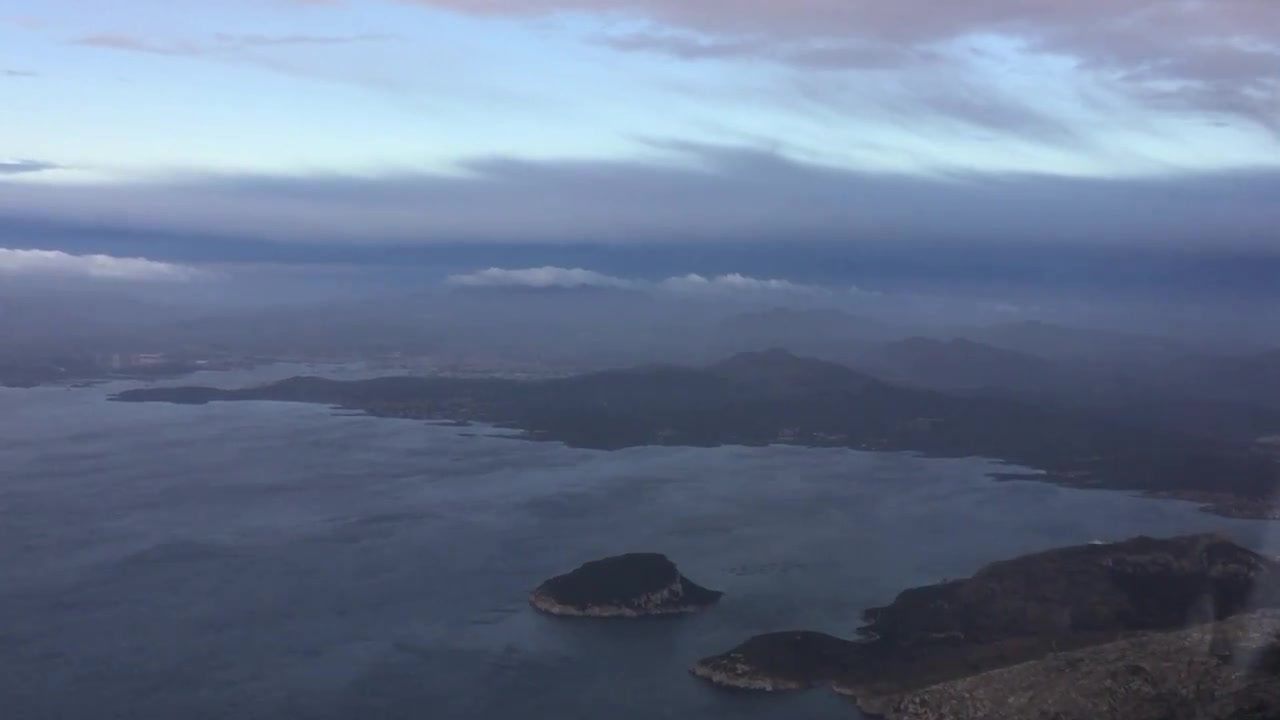runway: (109, 351, 125, 372)
